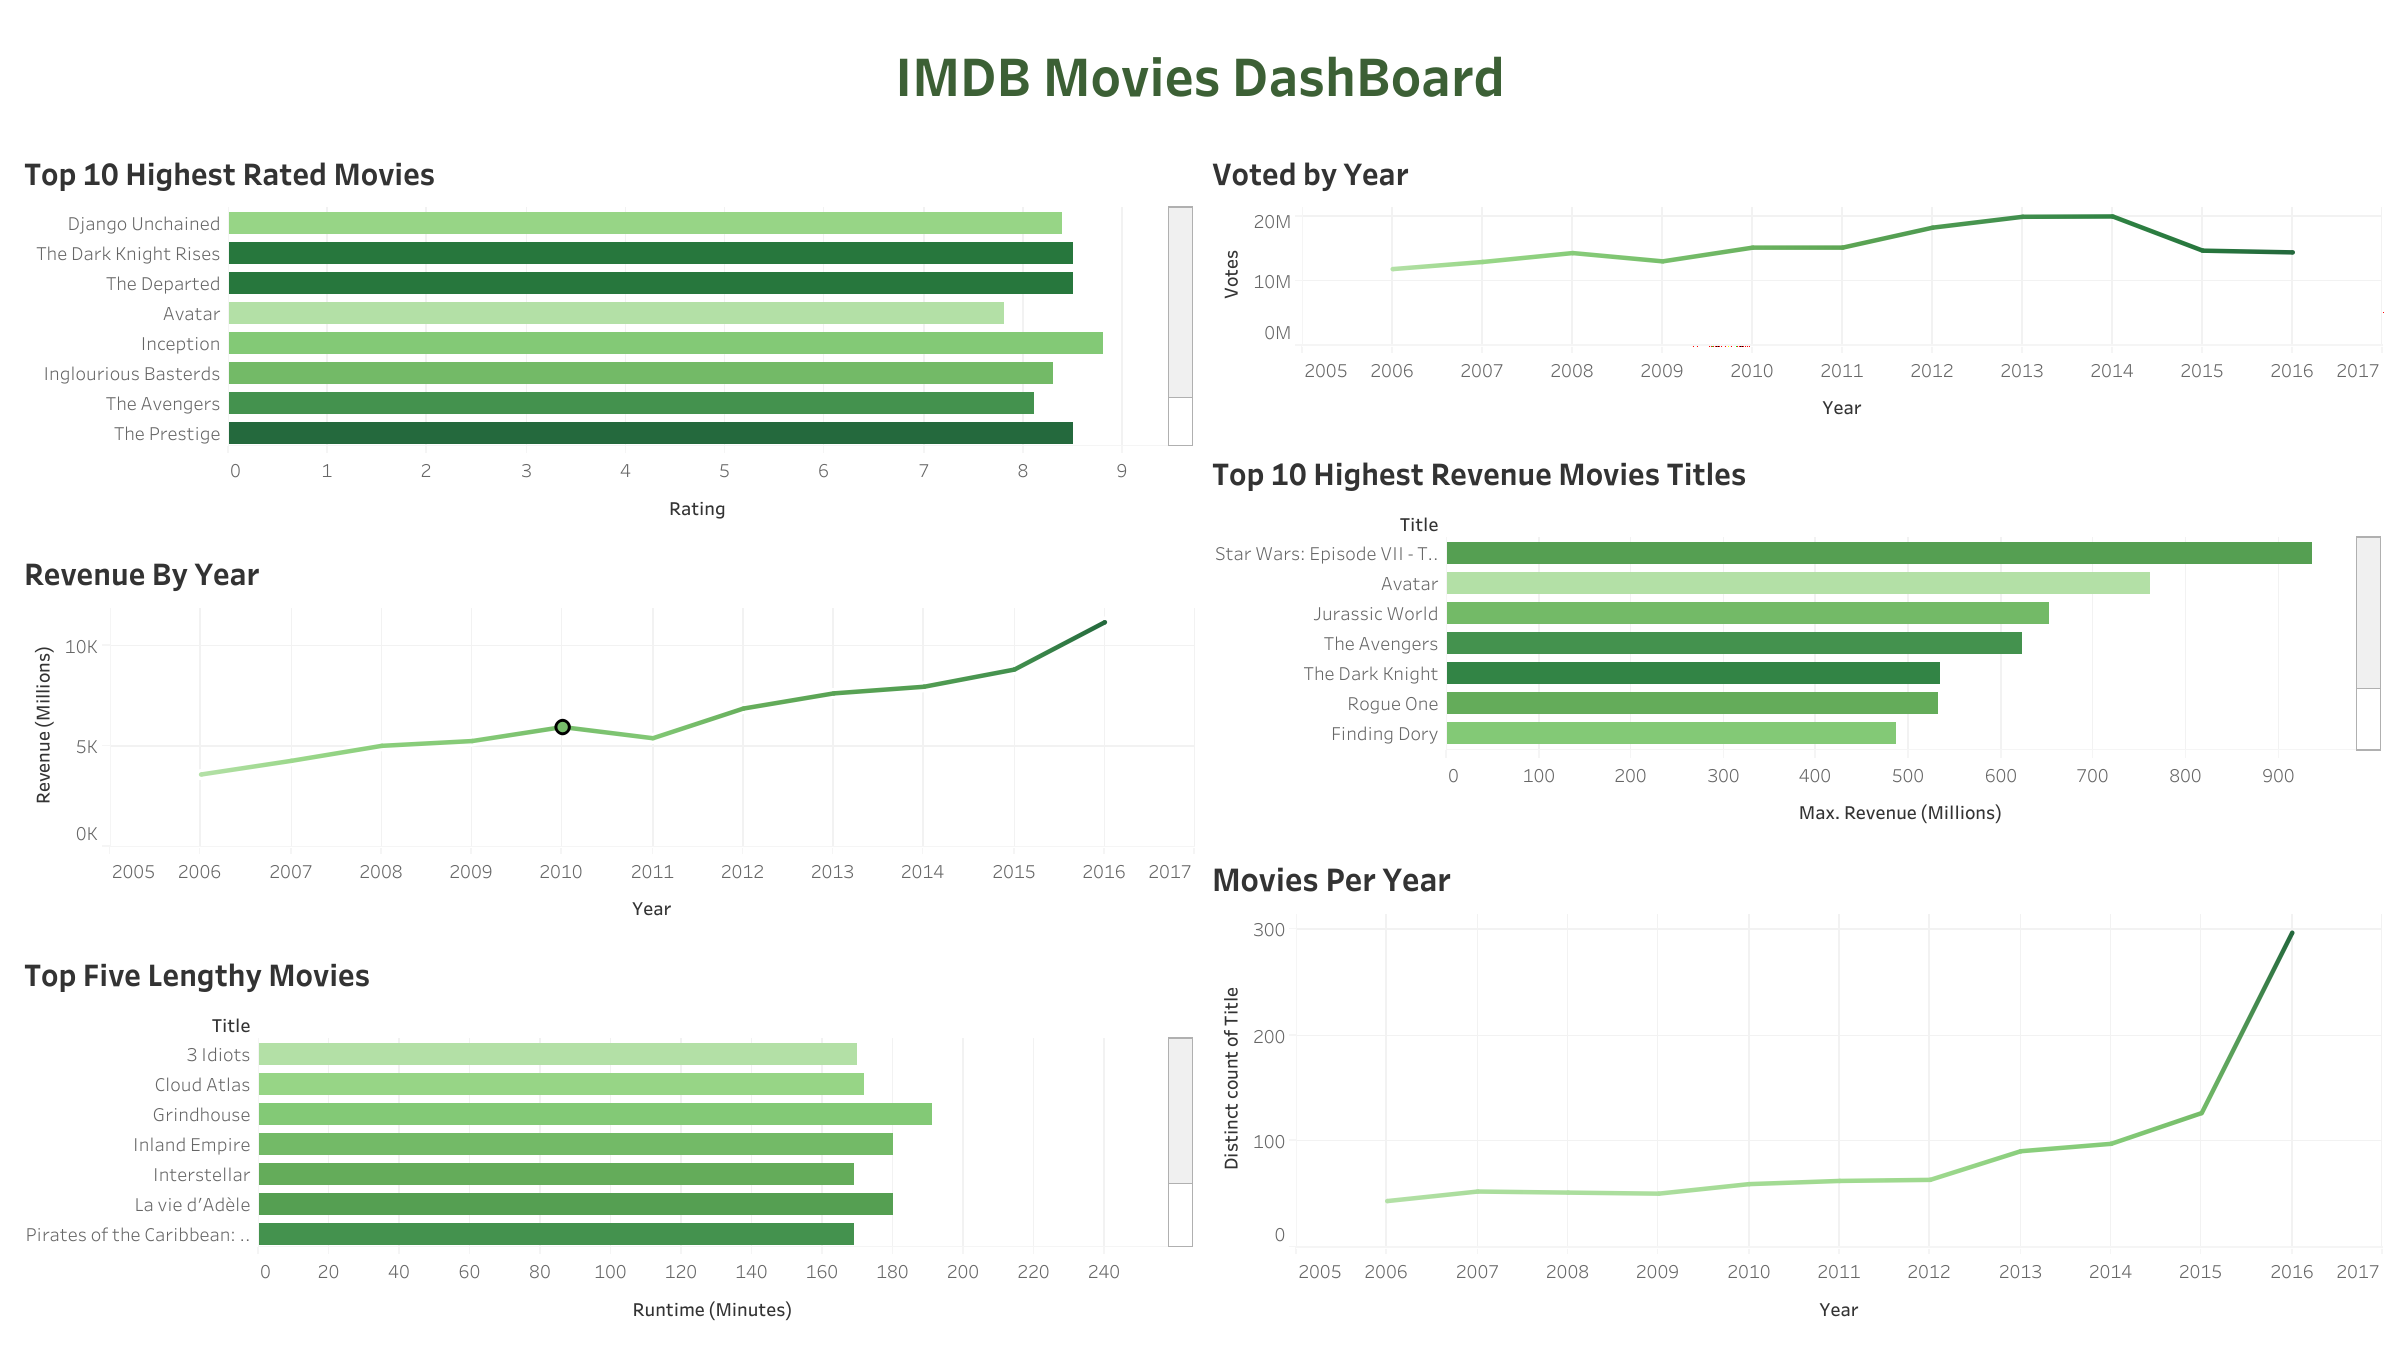

This screenshot's page, from the dashboard's own definition file:
{"tool":"tableau","page":{"name":"Dashboard 1","canvas":[1600,900],"ordinal":0},"visuals":[{"type":"text","box":[8,8,1584,82.7]},{"type":"worksheet","title":"Top 10 Highest Rated Movies","mark":"Automatic","rows":["Title"],"cols":["Rating"],"box":[8,90.7,792,267.1]},{"type":"worksheet","title":"Voted by Year","mark":"Automatic","rows":["Votes"],"cols":["Year"],"box":[800,90.7,792,200.3]},{"type":"worksheet","title":"Top 10 Highest Revenue Movies Titles","mark":"Automatic","rows":["Title"],"cols":["Revenue (Millions)"],"box":[800,291,792,270.3]},{"type":"worksheet","title":"Revenue By Year","mark":"Automatic","rows":["Revenue (Millions)"],"cols":["Year"],"box":[8,357.8,792,267.1]},{"type":"worksheet","title":"Movies Per Year","mark":"Automatic","rows":["Title"],"cols":["Year"],"box":[800,561.3,792,330.7]},{"type":"worksheet","title":"Top Five Lengthy Movies","mark":"Automatic","rows":["Title"],"cols":["Runtime (Minutes)"],"box":[8,624.9,792,267.1]}]}

Visuals, with their boxes in screenshot pixels (x1, y1, x2, y2), scaled from the page's 1600x900 canvas onto the 2399x1349 screenshot:
text: [left=12, top=12, right=2387, bottom=136]
"Top 10 Highest Rated Movies" worksheet: [left=12, top=136, right=1200, bottom=536]
"Voted by Year" worksheet: [left=1200, top=136, right=2387, bottom=436]
"Top 10 Highest Revenue Movies Titles" worksheet: [left=1200, top=436, right=2387, bottom=841]
"Revenue By Year" worksheet: [left=12, top=536, right=1200, bottom=937]
"Movies Per Year" worksheet: [left=1200, top=841, right=2387, bottom=1337]
"Top Five Lengthy Movies" worksheet: [left=12, top=937, right=1200, bottom=1337]
